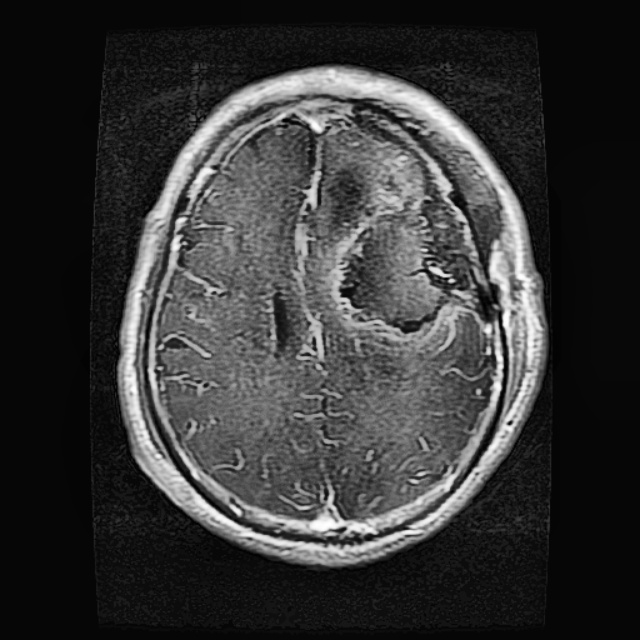Pituitary: (333, 194, 475, 333)
